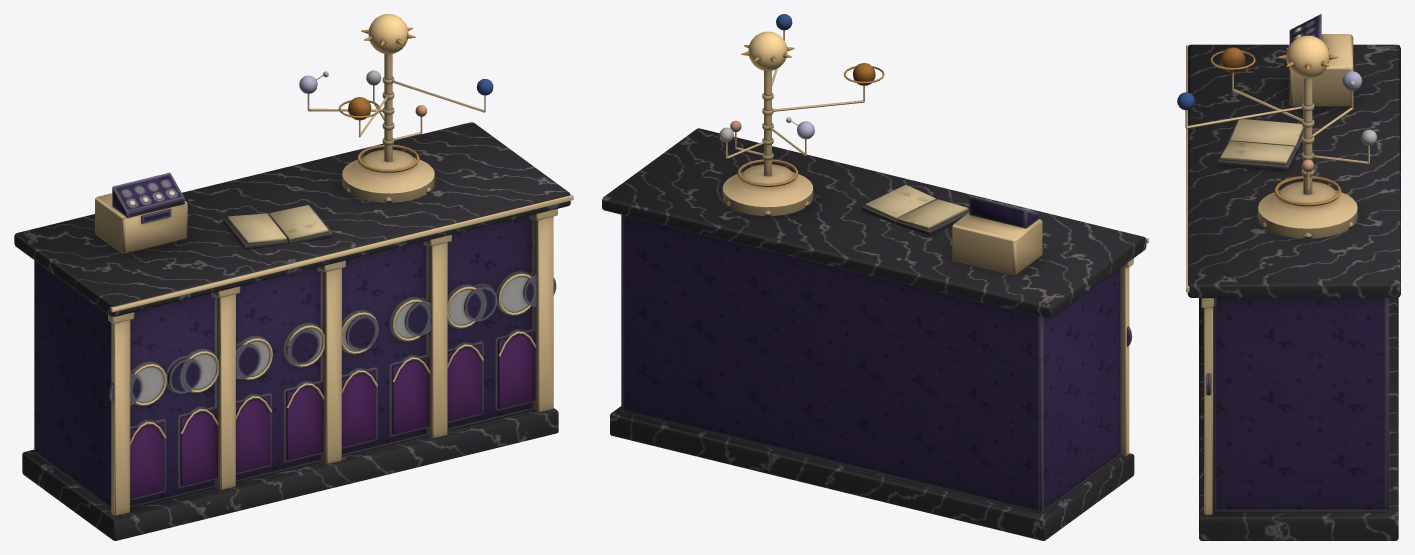
Rendered from OrreryCounter.fbx.
3 views of the same model, side by side, from view 1: azimuth 30°, elevation 25°; view 2: azimuth 150°, elevation 25°; view 3: azimuth 270°, elevation 25° (orthographic). The views are drawn at different scales.
Parts seen in each view (by area): view 1: OrreryCounter_Main, OrreryCounter_Glow; view 2: OrreryCounter_Main, OrreryCounter_Glow; view 3: OrreryCounter_Main, OrreryCounter_Glow.
Boxes of the visible parts, x1=… form: OrreryCounter_Main: x1=14, y1=27, x2=573, y2=540; OrreryCounter_Glow: x1=368, y1=14, x2=408, y2=54; OrreryCounter_Main: x1=602, y1=14, x2=1148, y2=540; OrreryCounter_Glow: x1=748, y1=31, x2=787, y2=70; OrreryCounter_Main: x1=1177, y1=14, x2=1400, y2=540; OrreryCounter_Glow: x1=1286, y1=35, x2=1329, y2=78.
Bounding box in the file's own units: 632 × 537 × 247.
